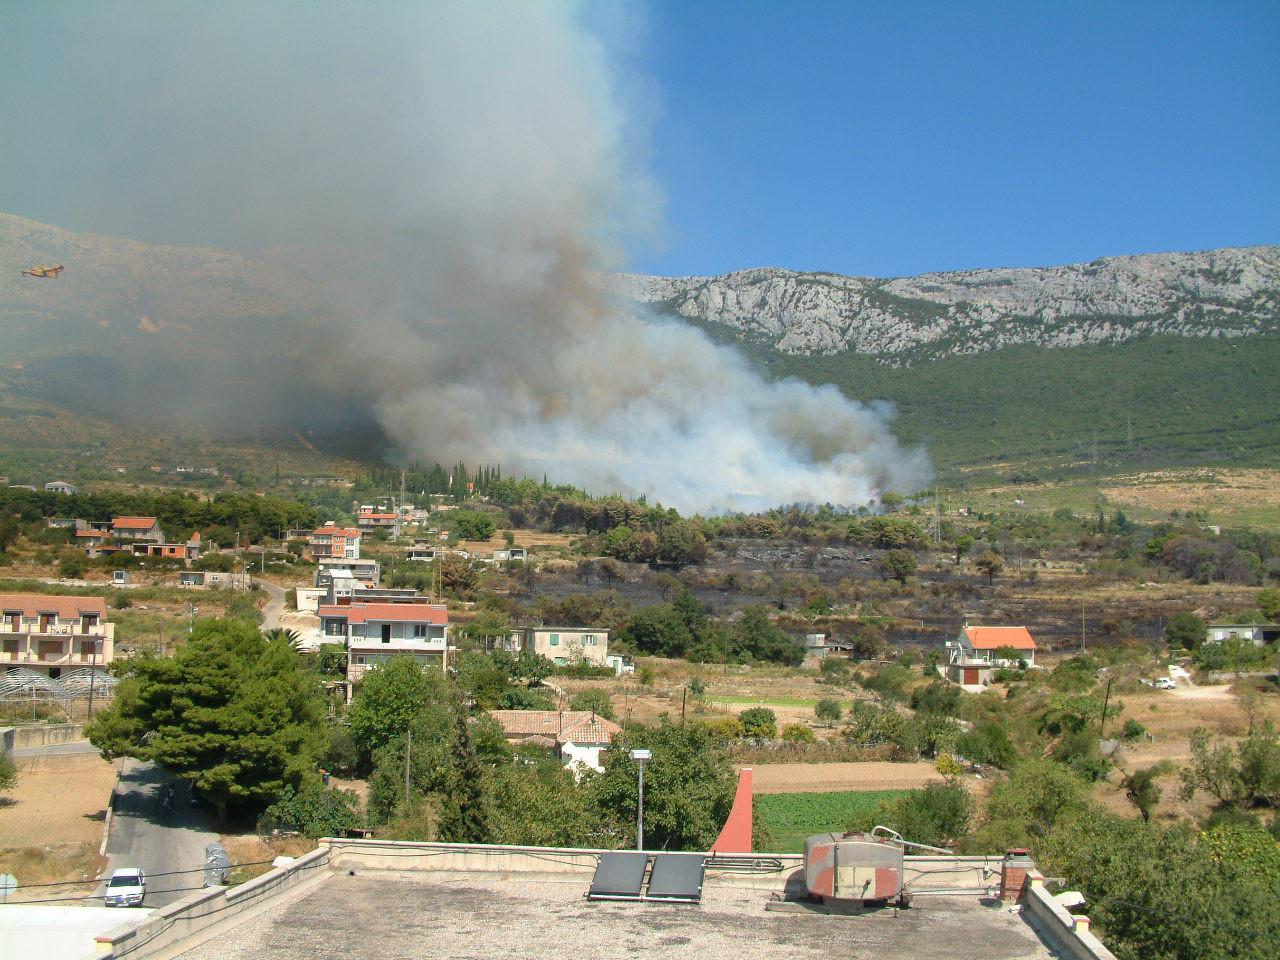Smoke: (282, 19, 942, 515)
